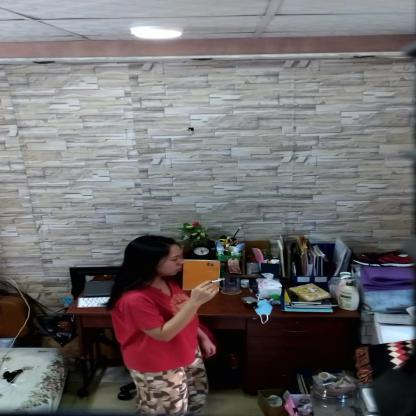cigarette: (212, 280, 223, 283)
person: (107, 235, 220, 415)
